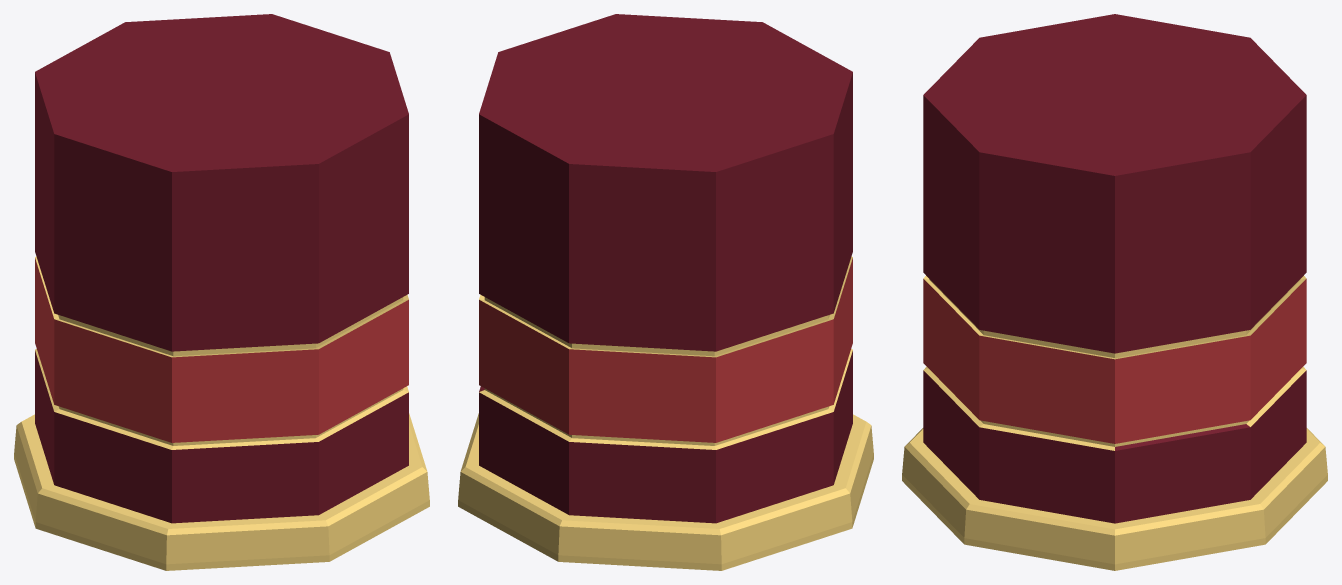
The model's file is pillar_bottom_001_msh.fbx.
3 views of the same model, side by side, from view 1: azimuth 30°, elevation 25°; view 2: azimuth 150°, elevation 25°; view 3: azimuth 270°, elevation 25° (orthographic).
Visible parts, largest first — view 1: pillar_bottom_001_msh; view 2: pillar_bottom_001_msh; view 3: pillar_bottom_001_msh.
Part boxes in pixels (left/top/right/bottom): pillar_bottom_001_msh: left=14, top=14, right=429, bottom=570; pillar_bottom_001_msh: left=458, top=14, right=873, bottom=570; pillar_bottom_001_msh: left=902, top=14, right=1327, bottom=570.
Bounding box in the file's own units: 100 × 100 × 100.
